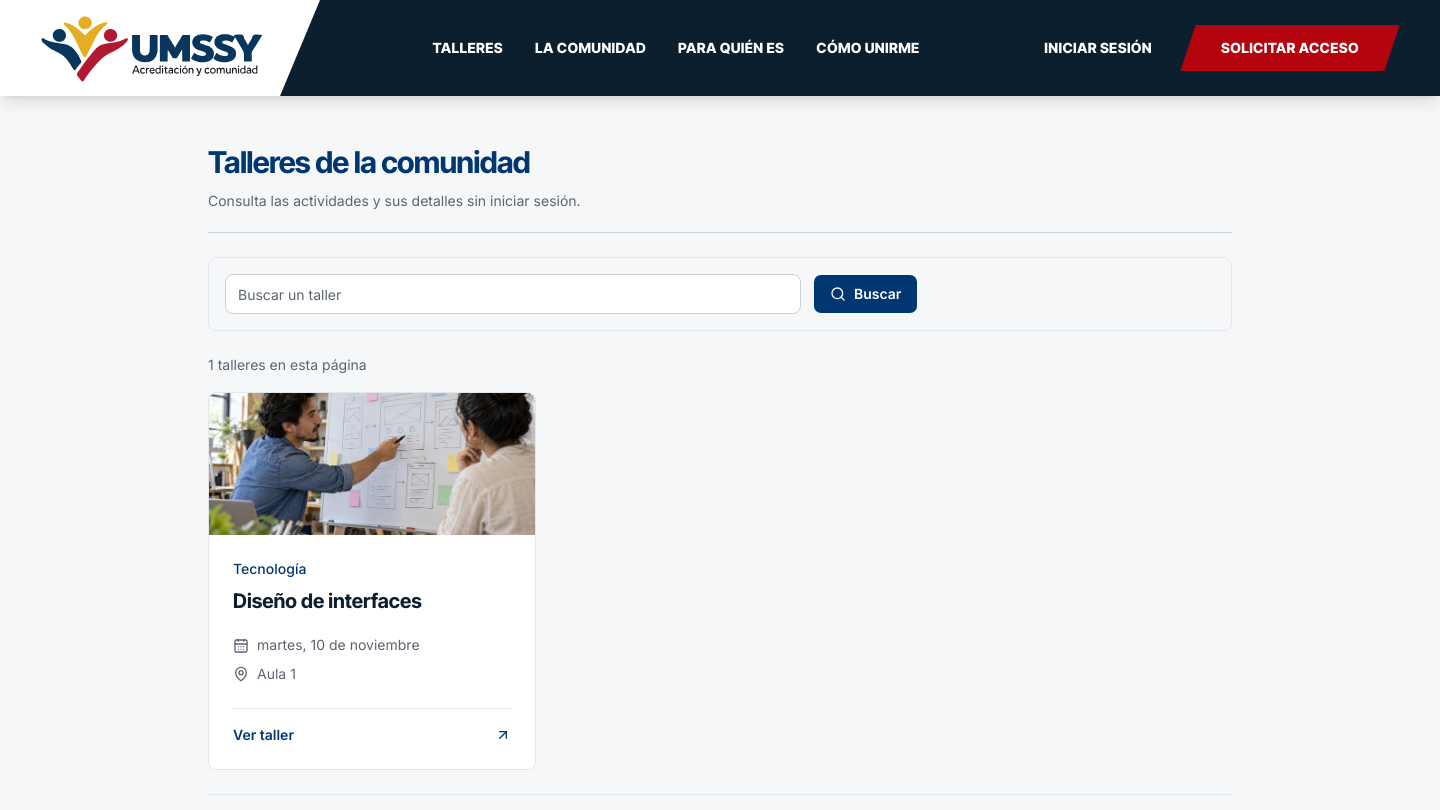
Test: Public workshops › opens real details and applies search on submission
Expected: the heading "Diseño de interfaces" is shown, x1=233 y1=590 x2=422 y2=614
Type "interfaces" into the search field.
click(513, 294); type("interfaces")  # box x1=225 y1=274 x2=801 y2=314
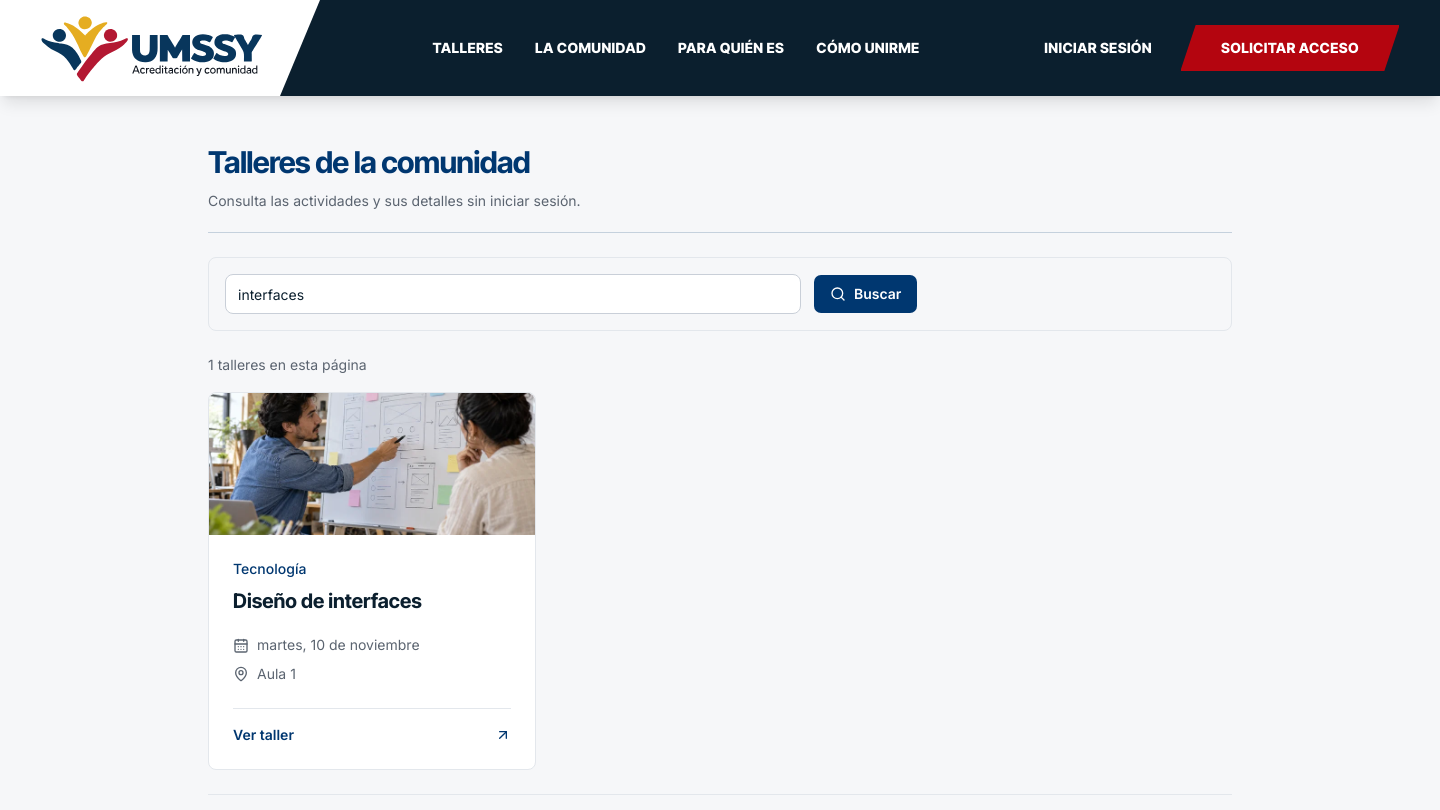
Click the button "Buscar".
click(866, 294)  # box x1=813 y1=274 x2=918 y2=314
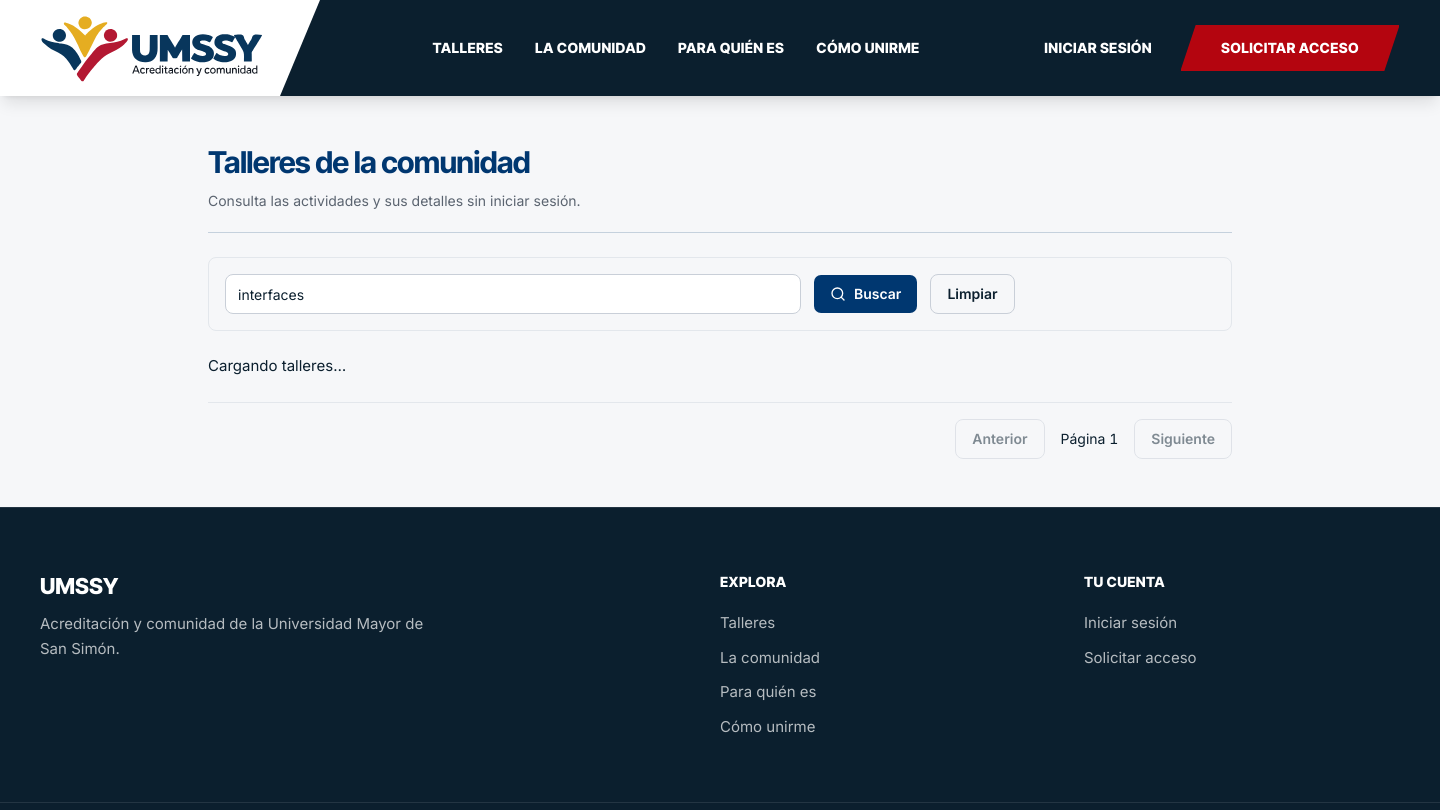
Click the button "Limpiar".
click(972, 294)  # box x1=930 y1=274 x2=1015 y2=314
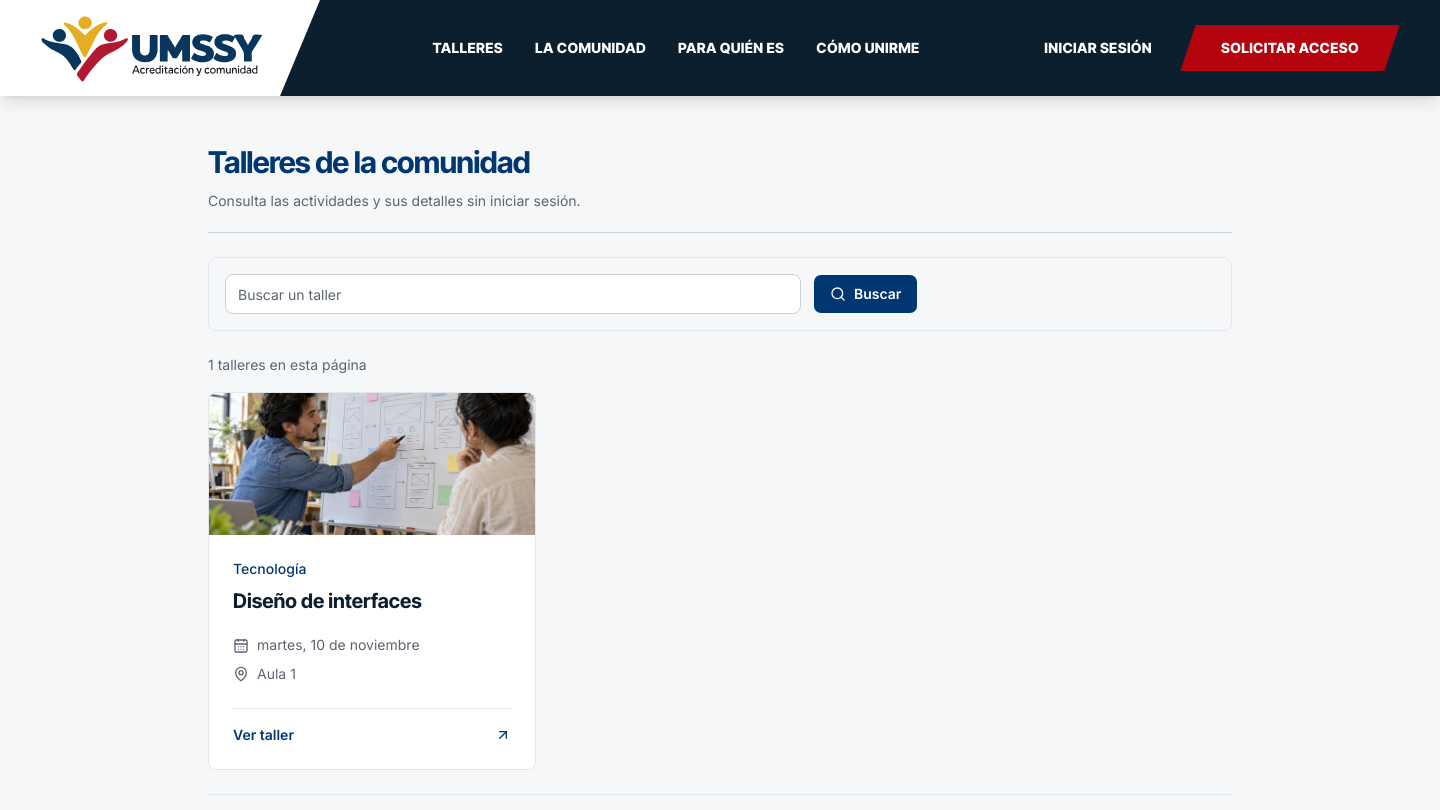
Expected: the search field is empty, x1=225 y1=274 x2=801 y2=314
